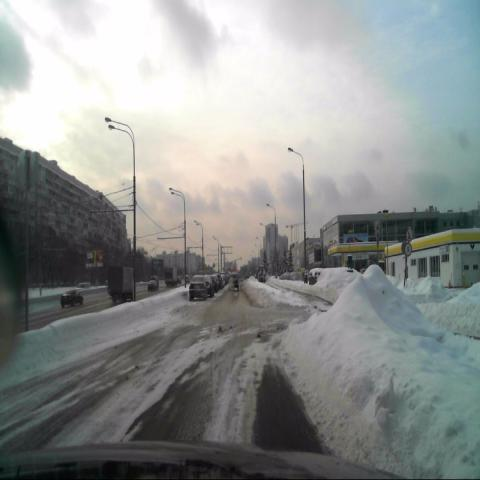3_24: (403, 243, 412, 258)
